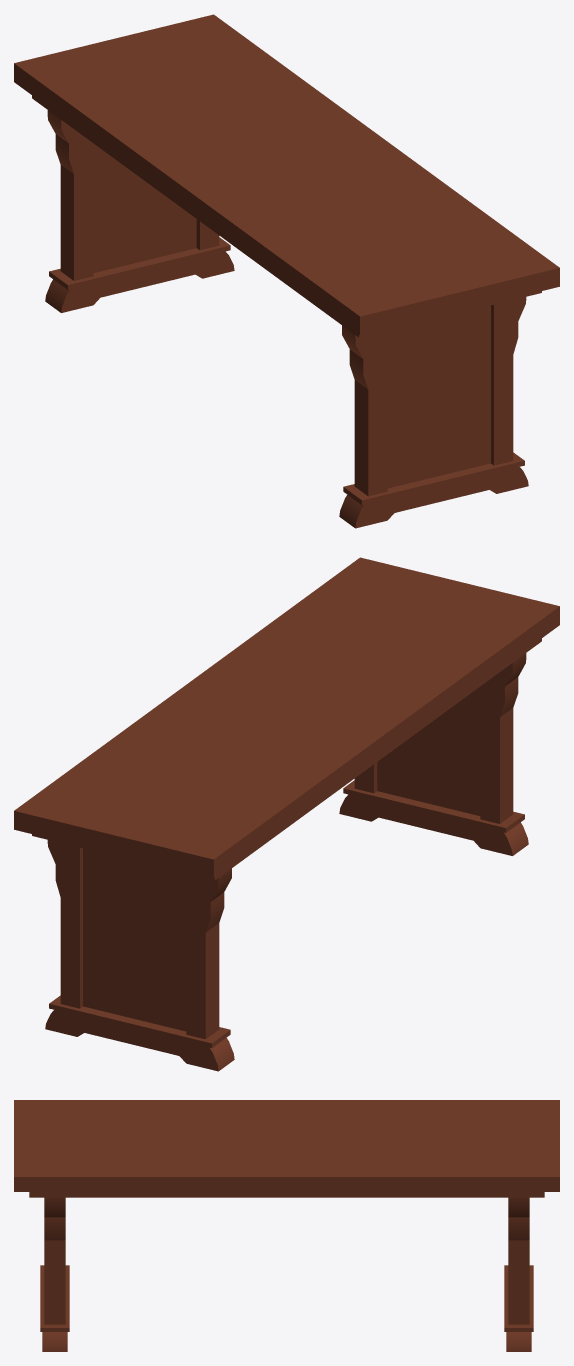
File: SM_Table.fbx
3 views of the same model, one above another, from view 1: azimuth 30°, elevation 25°; view 2: azimuth 150°, elevation 25°; view 3: azimuth 270°, elevation 25° (orthographic). The views are drawn at different scales.
Parts seen in each view (by area): view 1: Cube.025; view 2: Cube.025; view 3: Cube.025.
Boxes of the visible parts, x1=… form: Cube.025: x1=14, y1=14, x2=559, y2=528; Cube.025: x1=14, y1=557, x2=559, y2=1071; Cube.025: x1=14, y1=1100, x2=559, y2=1351.
Bounding box in the file's own units: 100 × 109 × 300.
